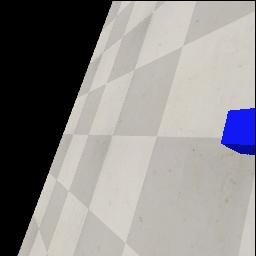box: (221, 107, 256, 155)
